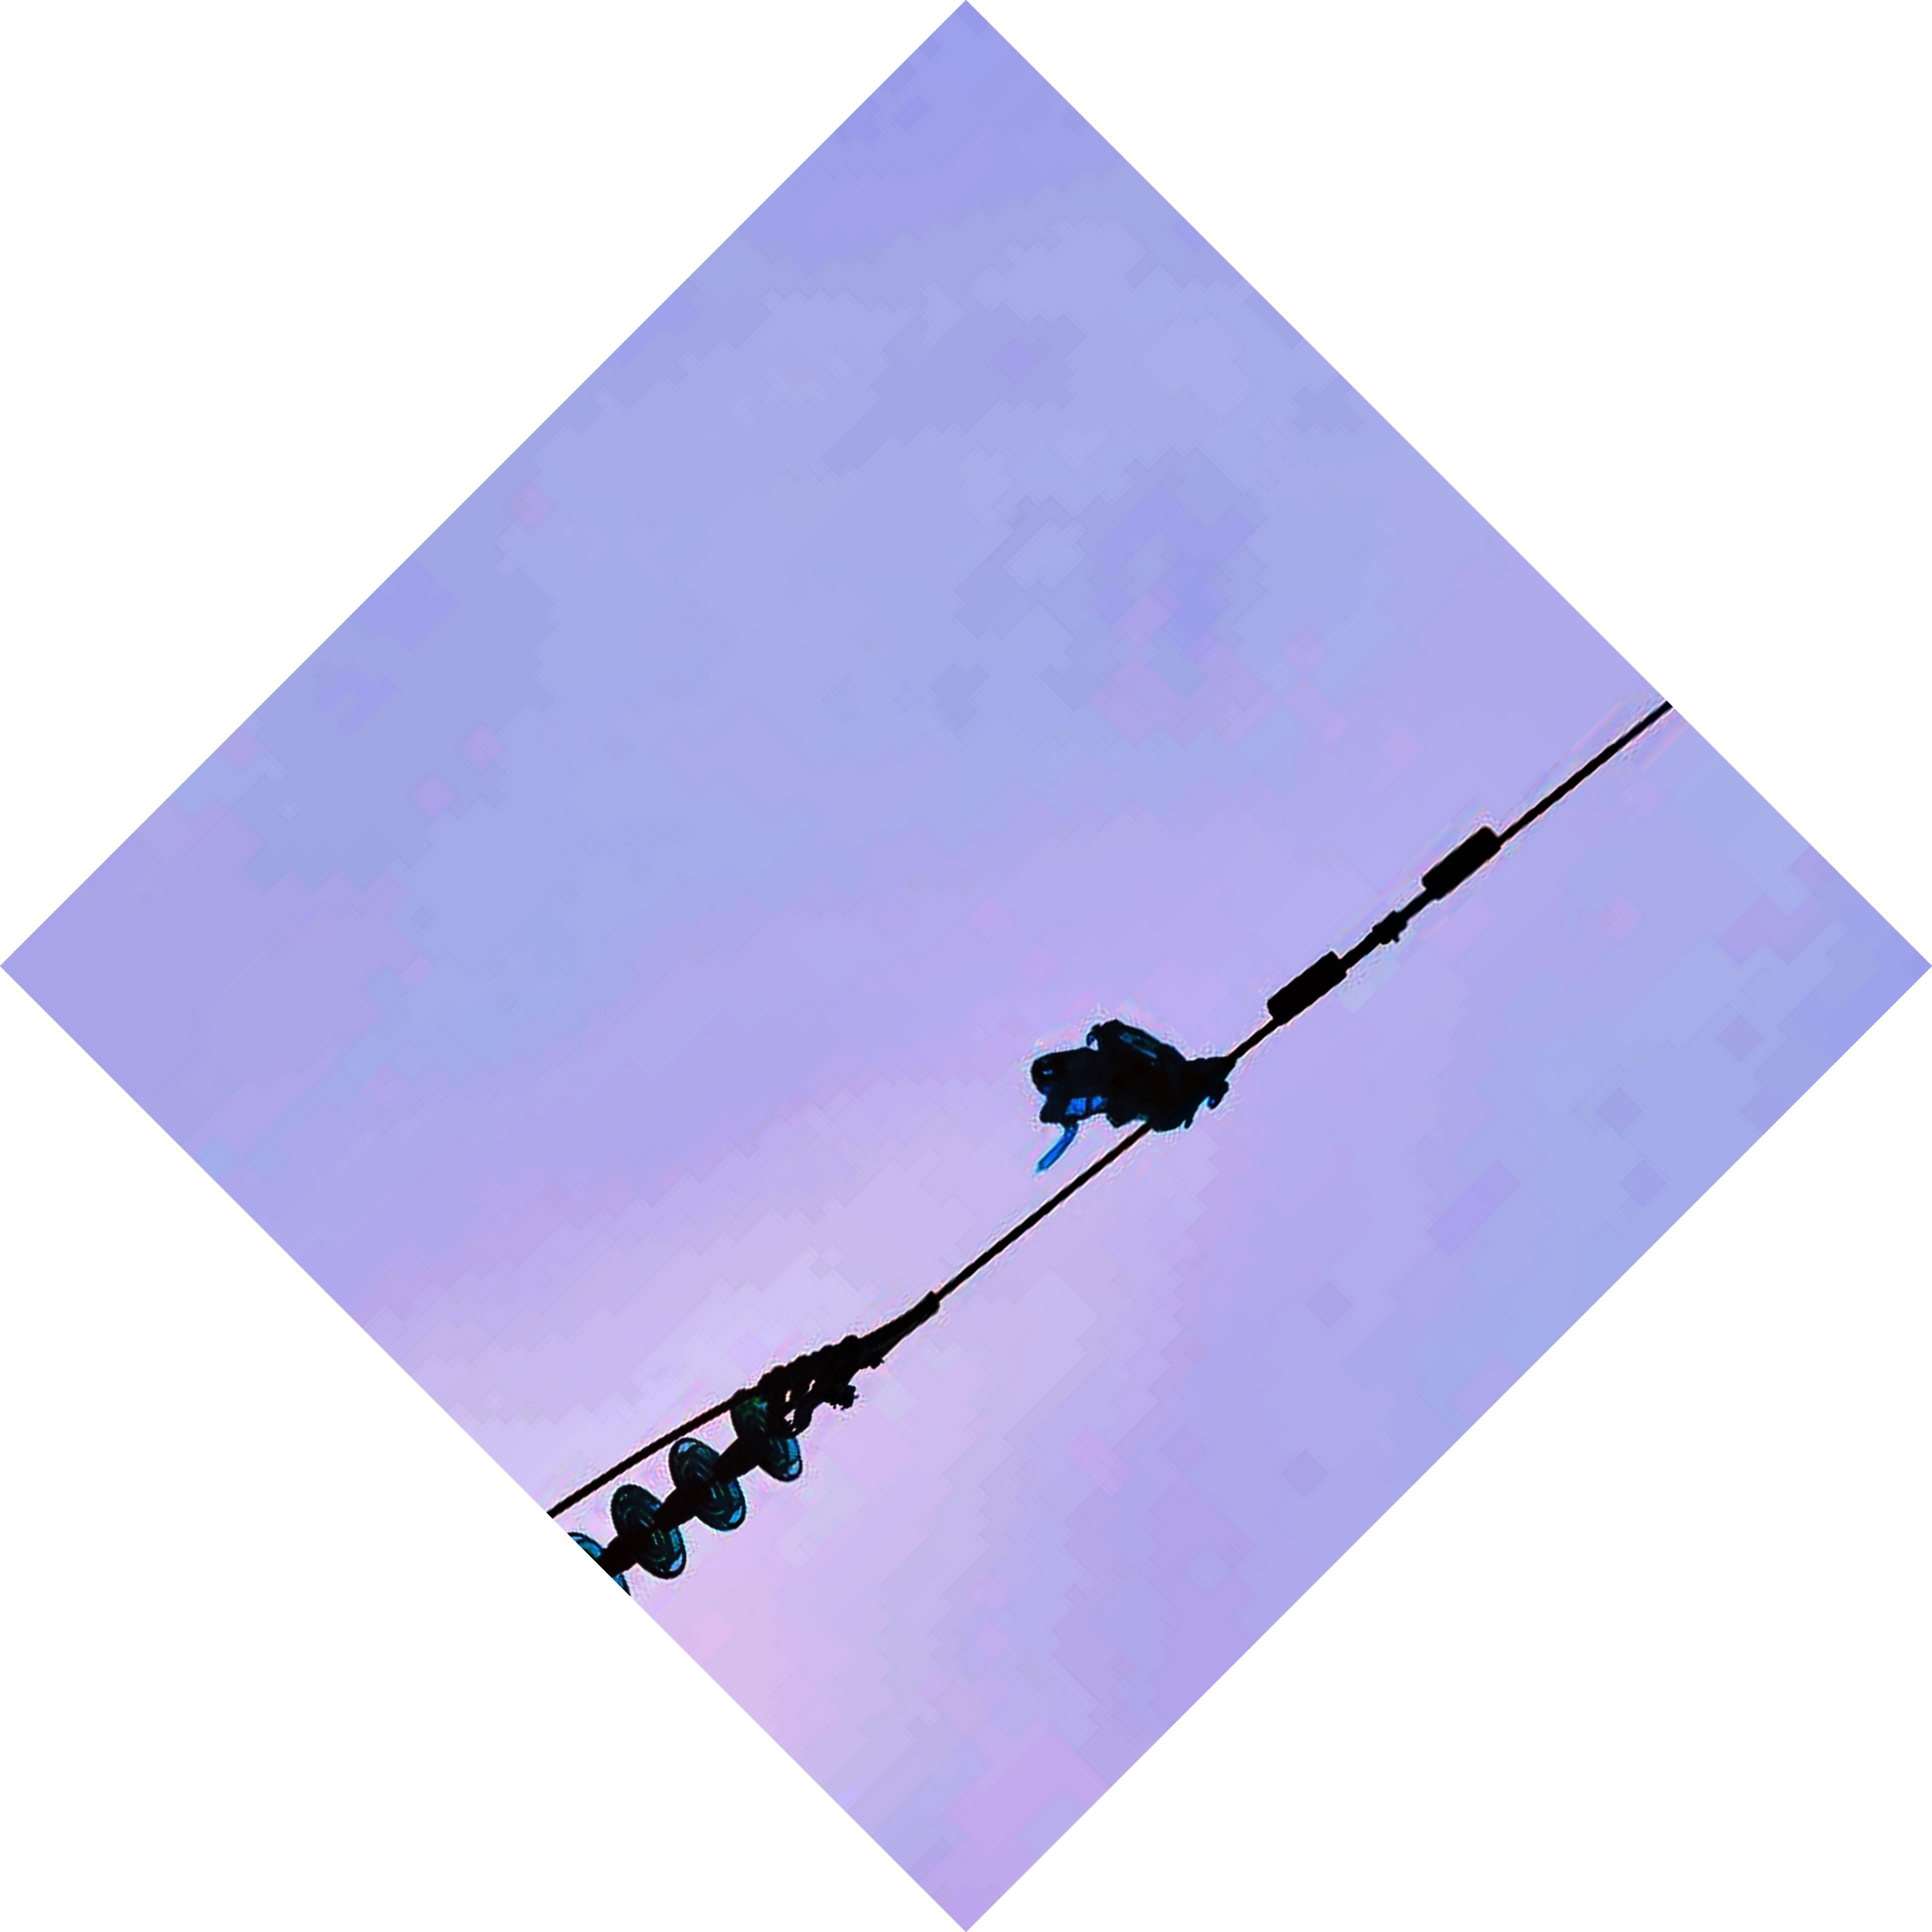wire foreign body: (1001, 991, 1270, 1173)
